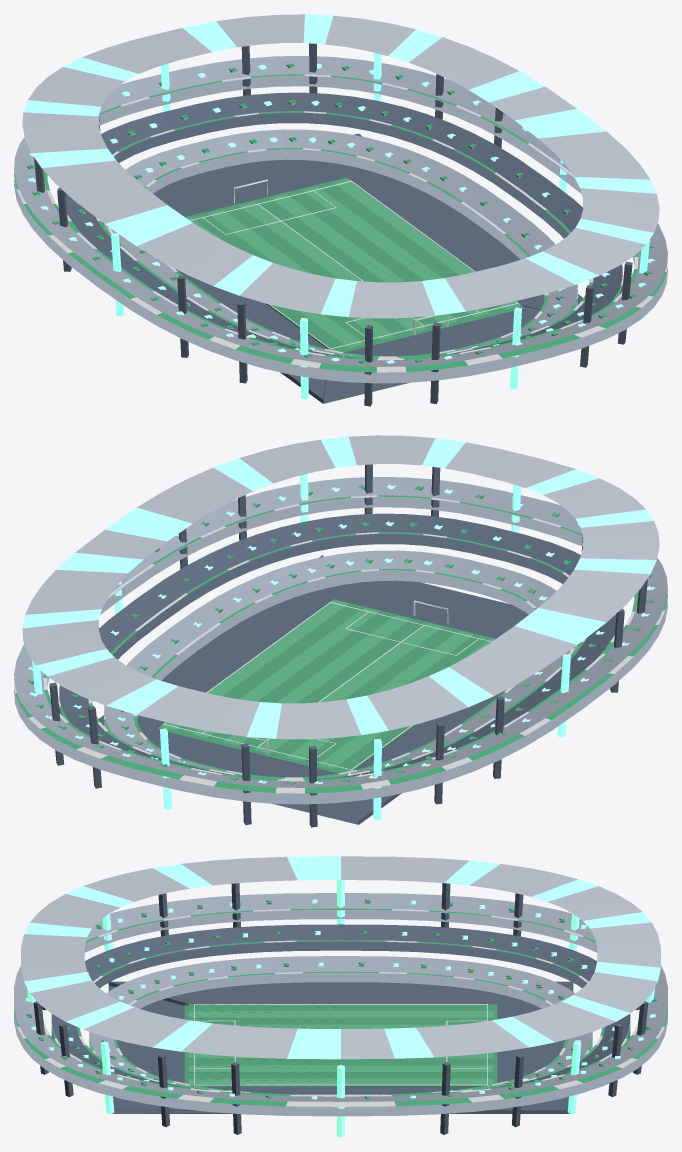
The model's file is allianz-parque.glb.
The picture shows the model from 3 angles, top to bottom: view 1: azimuth 30°, elevation 25°; view 2: azimuth 150°, elevation 25°; view 3: azimuth 270°, elevation 25°; orthographic projection. The views are drawn at different scales.
Visible parts, largest first — view 1: Allianz Parque; view 2: Allianz Parque; view 3: Allianz Parque.
Boxes of the visible parts, x1,y1,x2,y2 form: Allianz Parque: (14, 14, 667, 406); Allianz Parque: (14, 435, 667, 827); Allianz Parque: (14, 856, 667, 1137).
Bounding box in the file's own units: 61.69 × 13.1 × 81.59.
